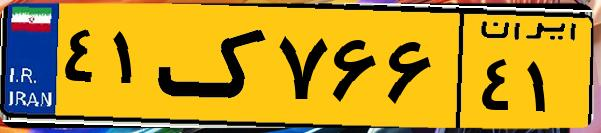1: (525, 38, 570, 115), (110, 28, 158, 98)
4: (57, 26, 110, 100), (475, 38, 525, 113)
6: (385, 28, 445, 110), (330, 28, 385, 110)
7: (270, 28, 330, 110)
ک: (158, 12, 270, 120)
